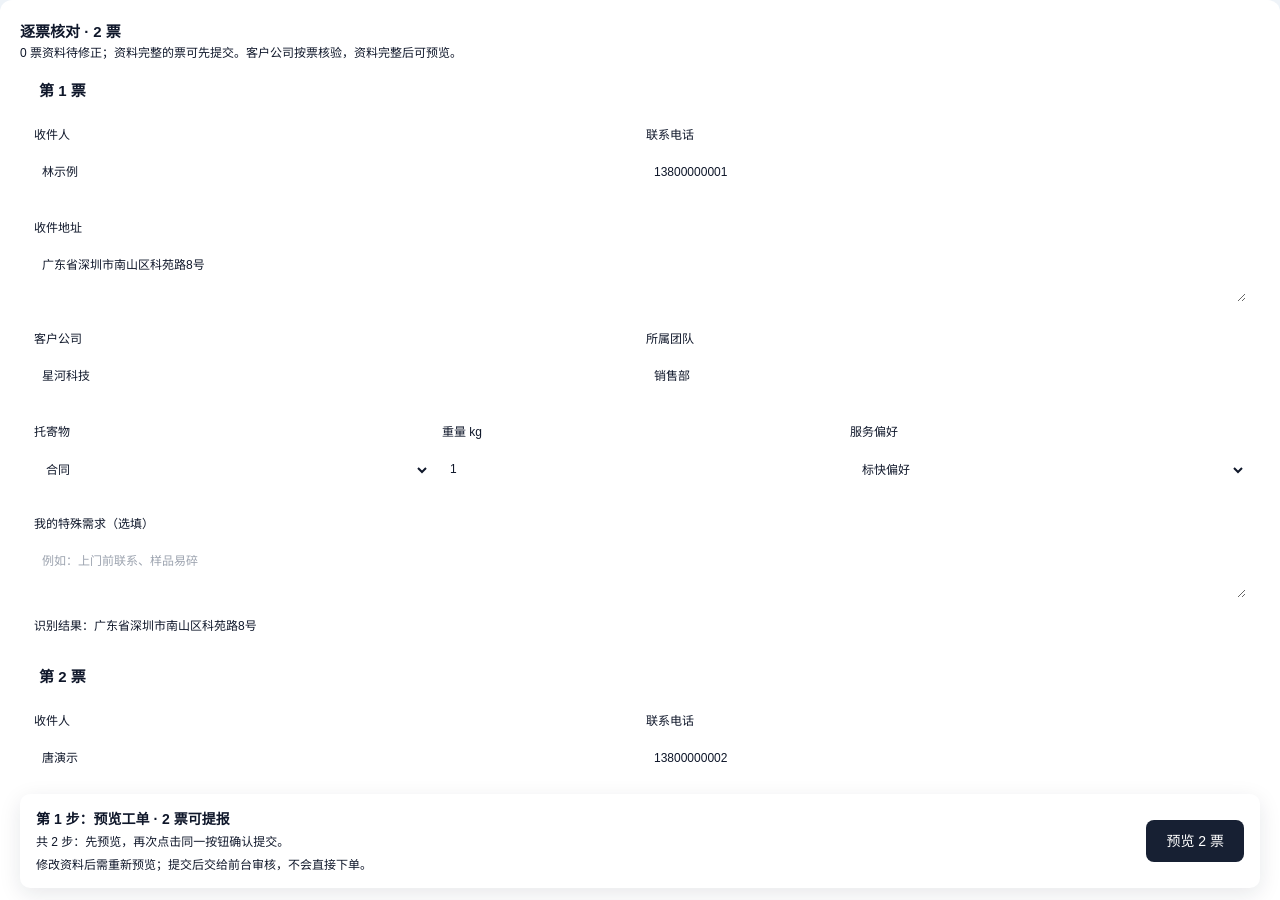
Test: keeps the same primary action through preview and requires review again after changes
Later steps or results of the test are not shown.
Expected: the button "确认提交 2 票" is not shown
Click the button "预览 2 票": (1195, 841) [1146,820,1244,862]
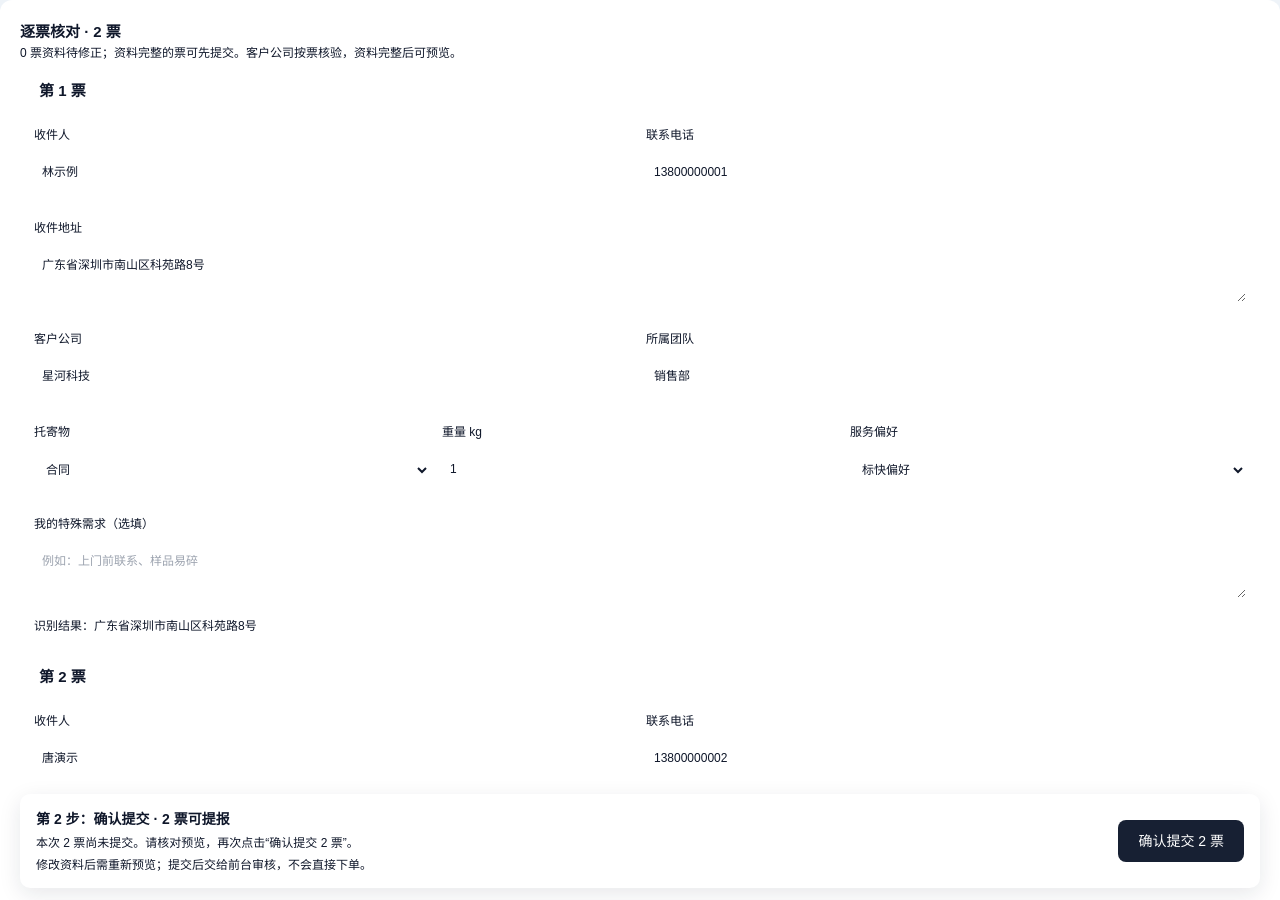
Expected: the button "预览 2 票" is gone
